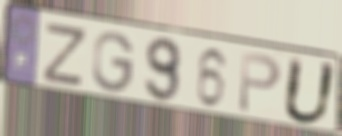6: (196, 46, 227, 110)
9: (141, 35, 183, 106)
G: (90, 30, 136, 95)
P: (236, 49, 284, 116)
U: (280, 54, 340, 127)
Z: (39, 23, 90, 90)
